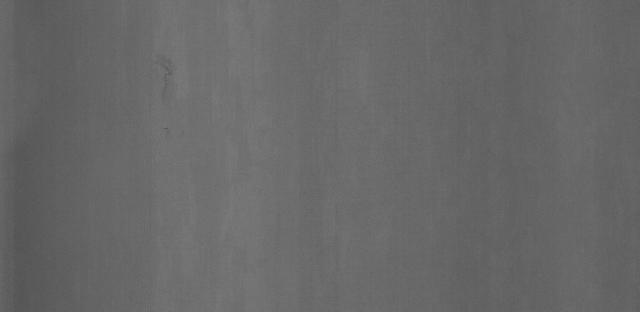water_spot: (147, 43, 198, 129)
